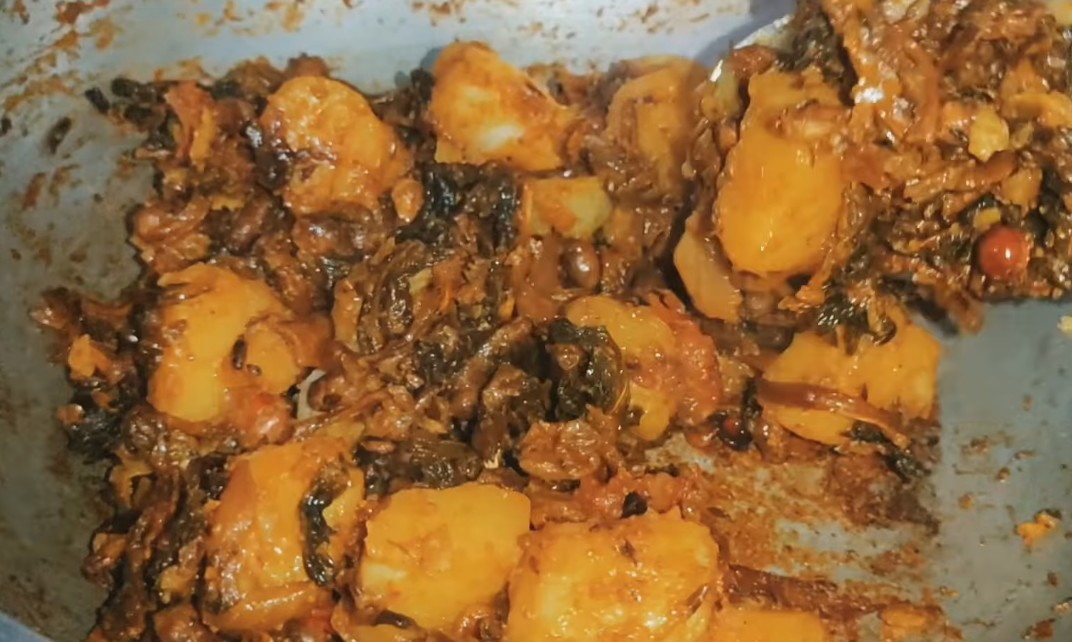gundruk: (70, 43, 1033, 631)
